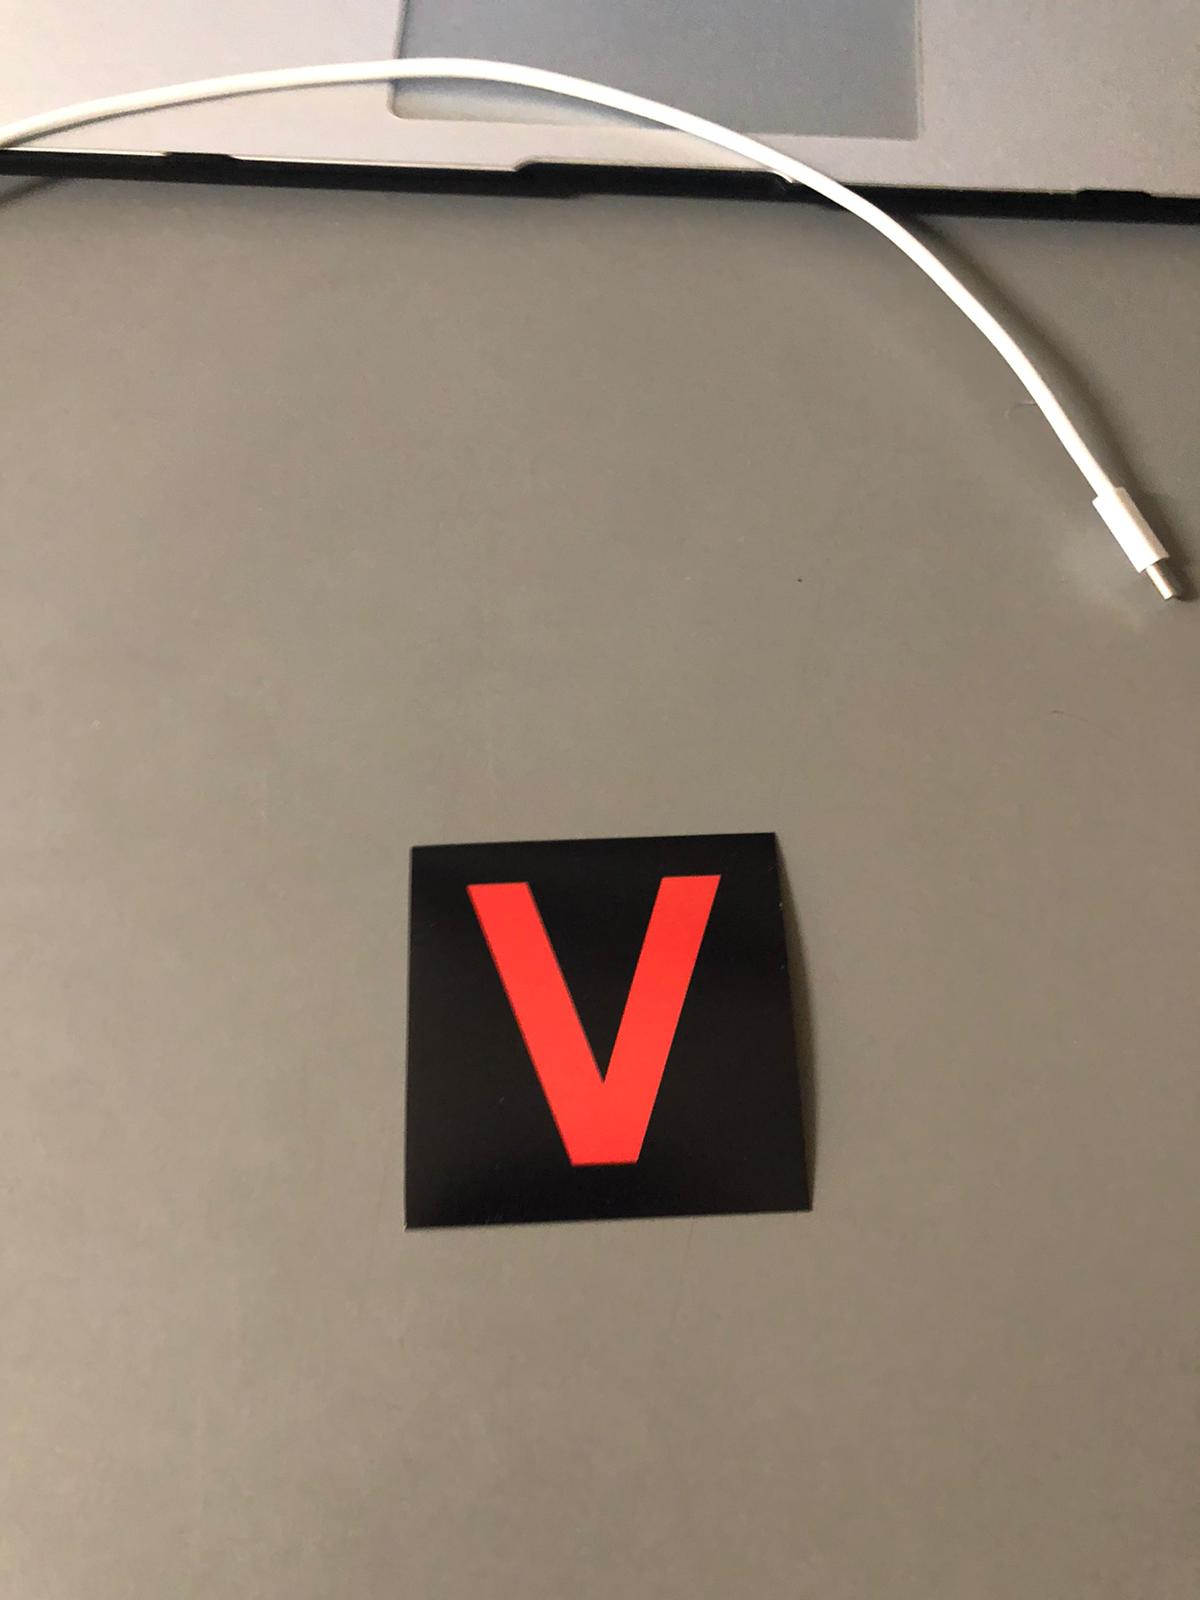V: (421, 860, 800, 1204)
